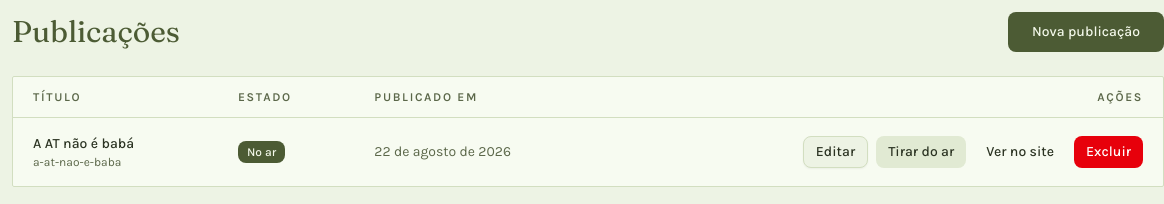
PublicacoesPainel › desabilita as ações da linha enquanto a gravação corre
This screenshot has width=1164, height=204.
Step 1. Click the button "Tirar do ar" → (921,152), box 876,136 -> 966,168
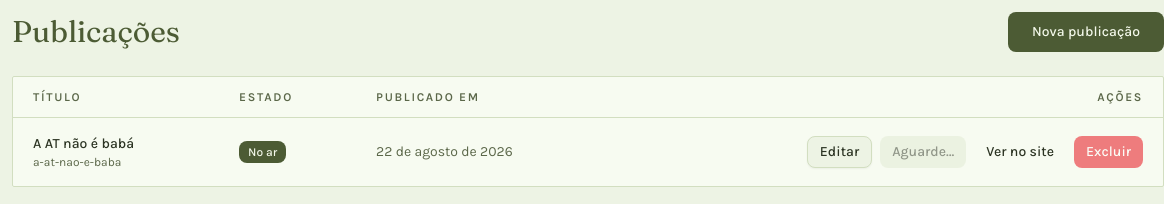
Check: the button "Aguarde…" is disabled, box 880,136 -> 966,168
Check: the button "Excluir" is disabled, box 1074,136 -> 1143,168
